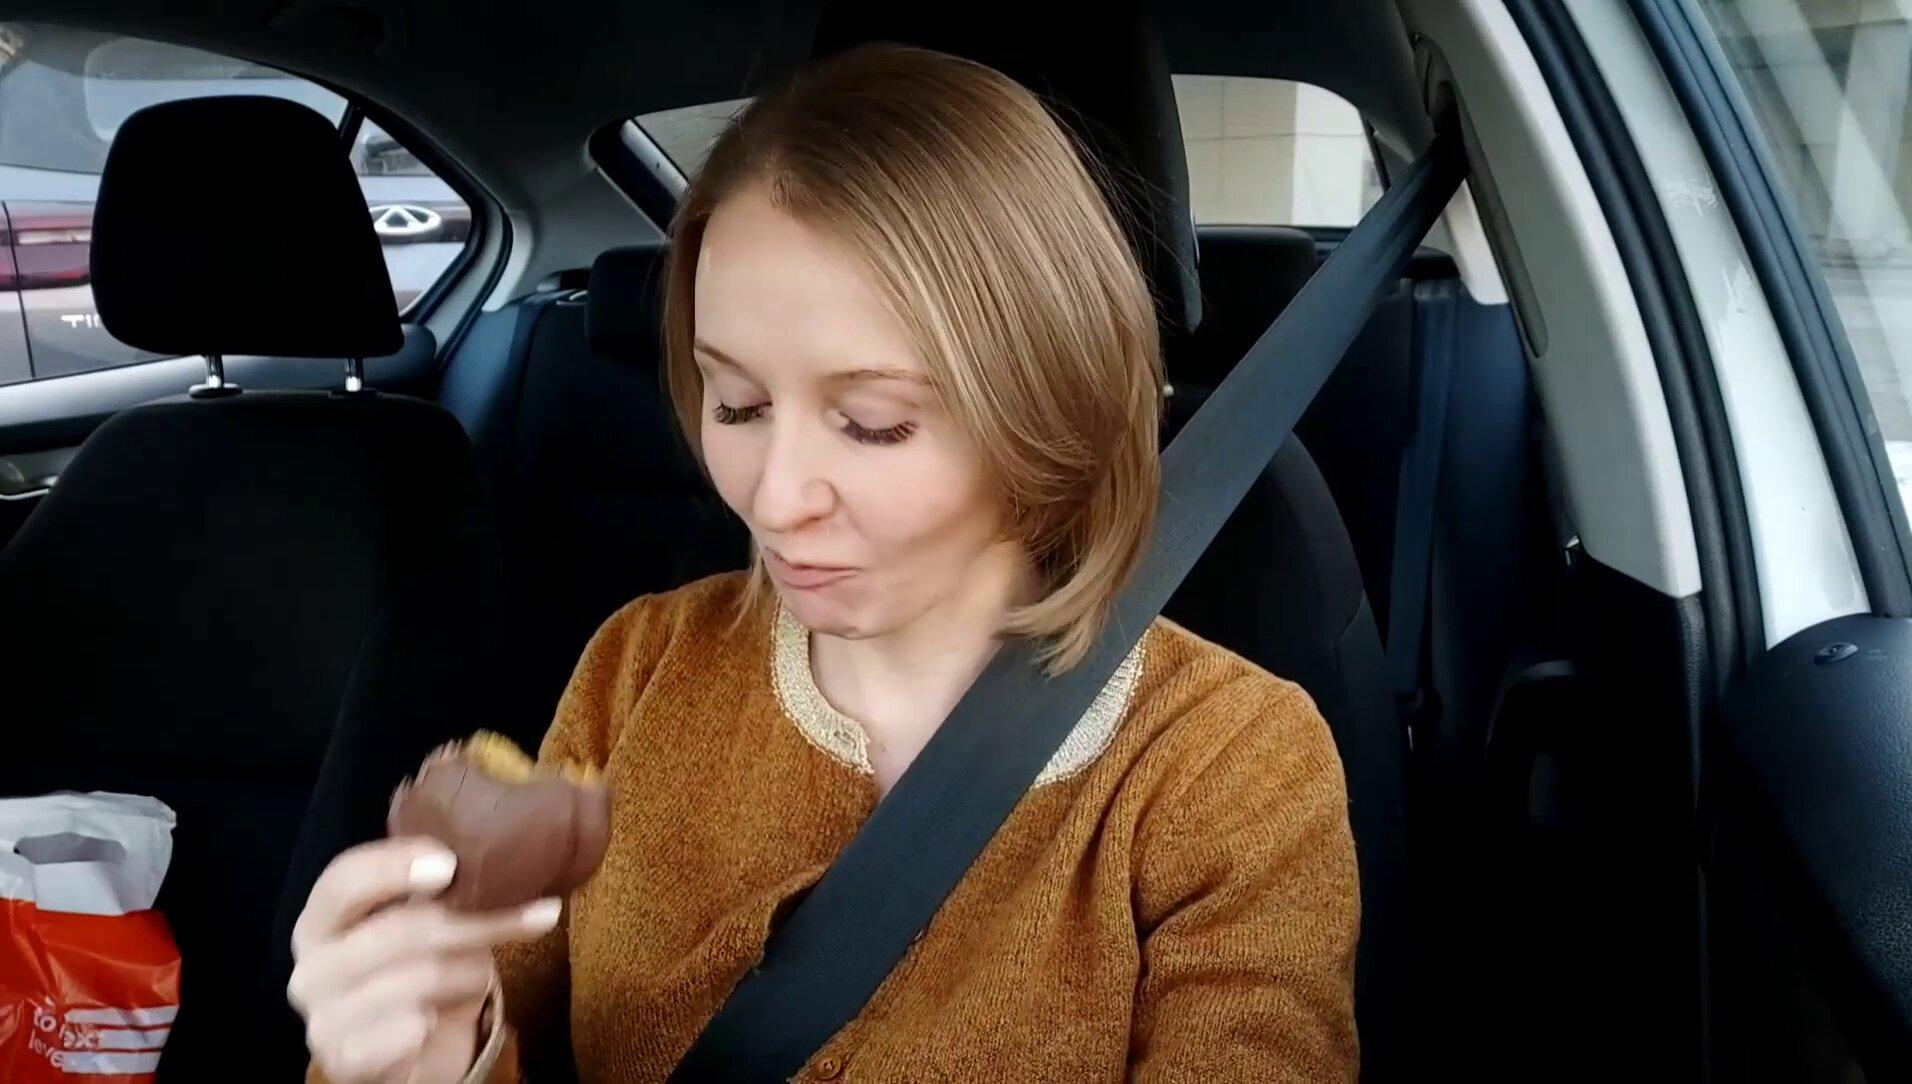Eating: (370, 713, 620, 924)
